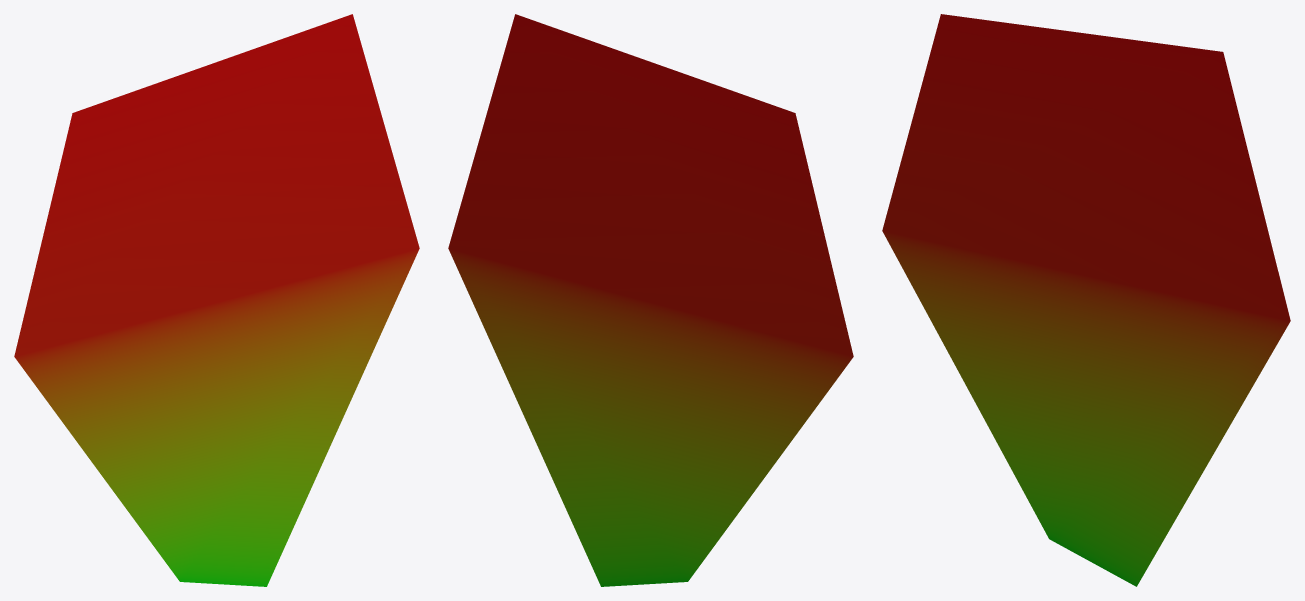
The model's file is Alpine Bearberry_LOD5_Var15_xb0gdazqx.fbx.
3 views of the same model, side by side, from view 1: azimuth 30°, elevation 25°; view 2: azimuth 150°, elevation 25°; view 3: azimuth 330°, elevation 25° (orthographic).
Visible parts, largest first — view 1: _fwl2_Var15_LOD5; view 2: _fwl2_Var15_LOD5; view 3: _fwl2_Var15_LOD5.
Part boxes in pixels (bbox=[...]): _fwl2_Var15_LOD5: bbox=[14, 14, 419, 586]; _fwl2_Var15_LOD5: bbox=[448, 14, 853, 586]; _fwl2_Var15_LOD5: bbox=[882, 14, 1290, 586].
Bounding box in the file's own units: 5.1 × 6.64 × 2.9e-07.
